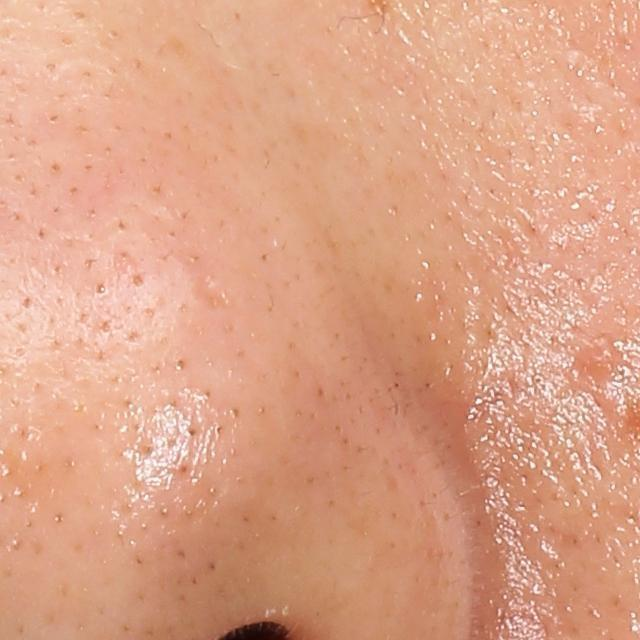atrophic_scar: (193, 274, 232, 314)
comedo: (91, 279, 112, 300), (130, 271, 145, 287)
papule: (582, 342, 621, 380)
